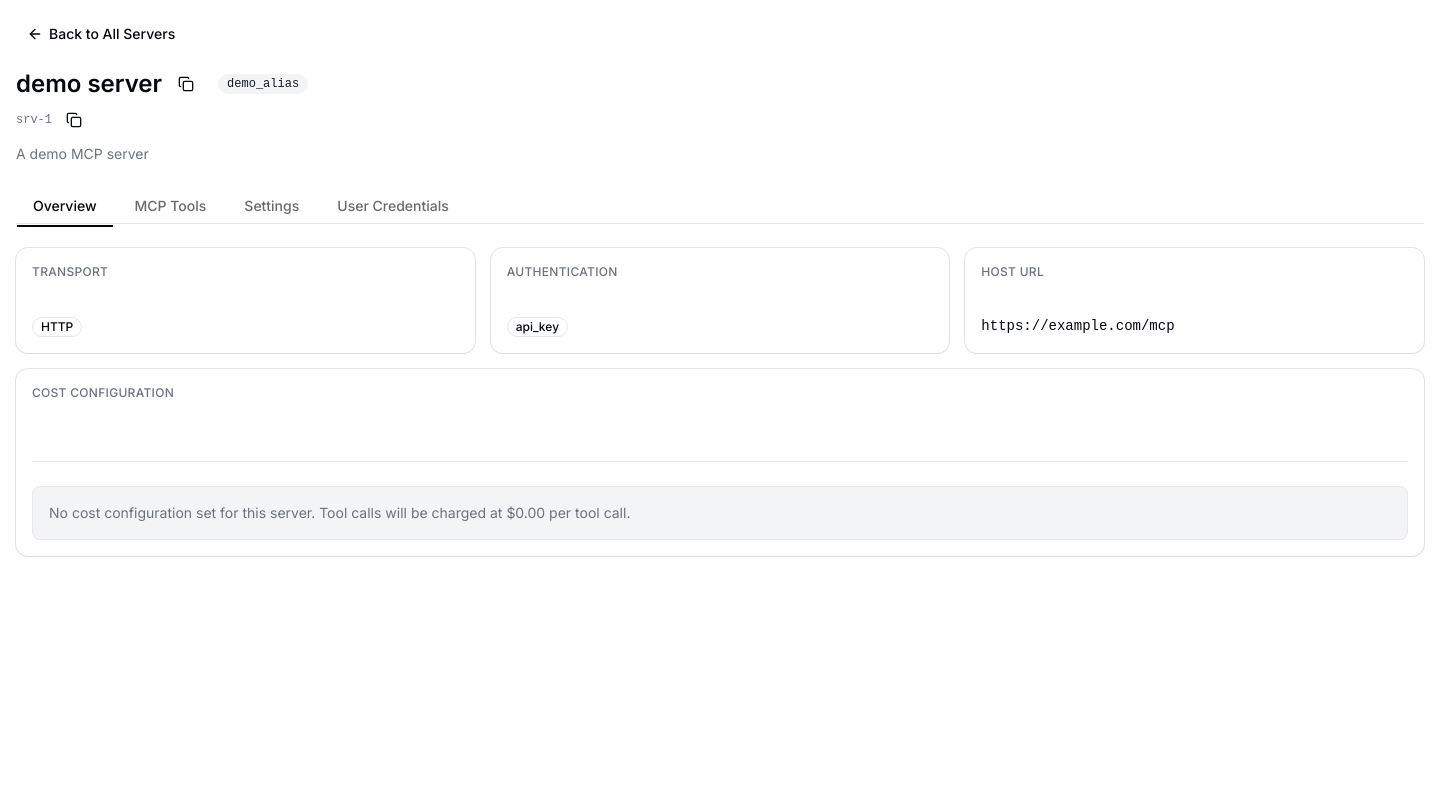
Test case: MCPServerView › says all tools are enabled when no allowlist is stored
Click the tab "Settings" at (272, 206), box [227,188,316,222]
(page scrolled)
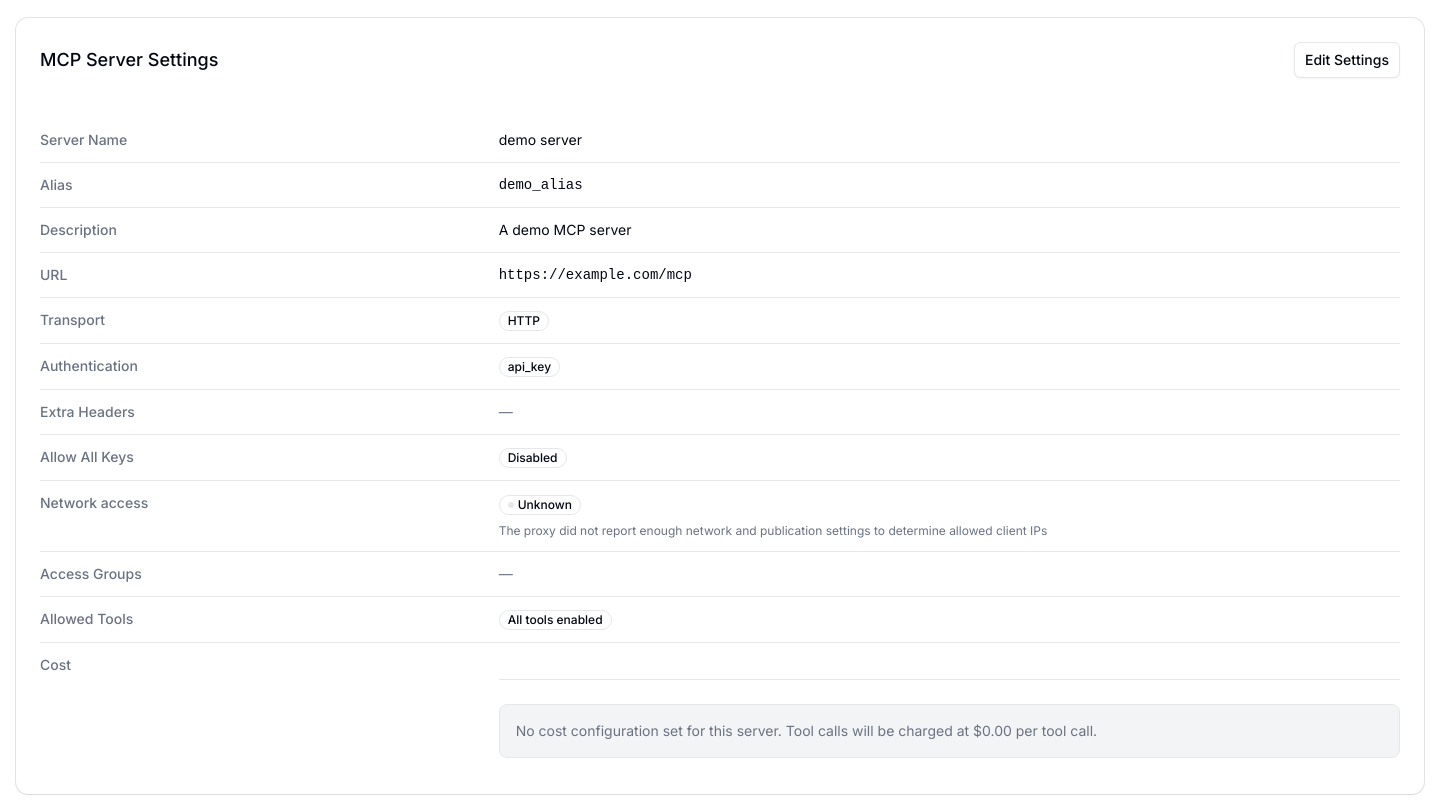
Expected: the text "All tools enabled" is shown, [499,610,612,630]
